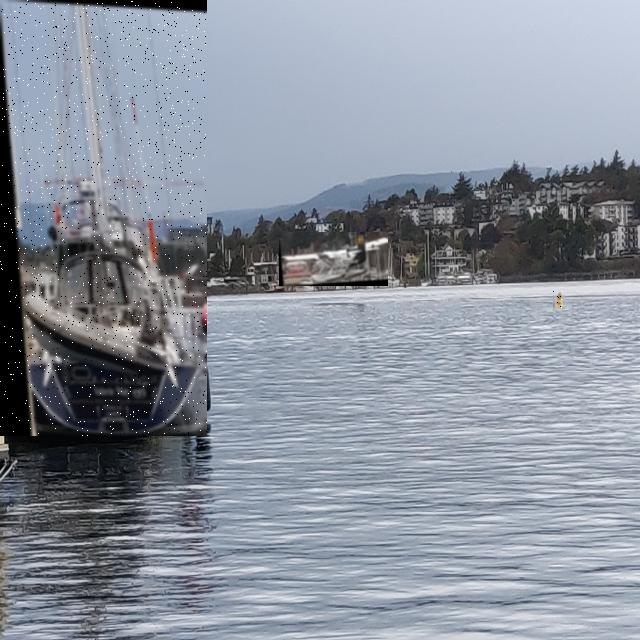aircraft: (279, 232, 388, 286)
boat: (0, 0, 207, 436)
mark: (553, 291, 565, 309)
